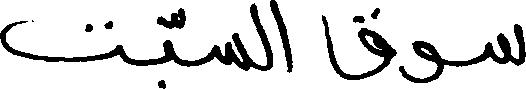X: (0, 15, 117, 66), (322, 3, 393, 84), (487, 19, 525, 70), (272, 0, 291, 77), (414, 36, 442, 87), (251, 0, 270, 75), (216, 28, 246, 75), (163, 8, 174, 88)
